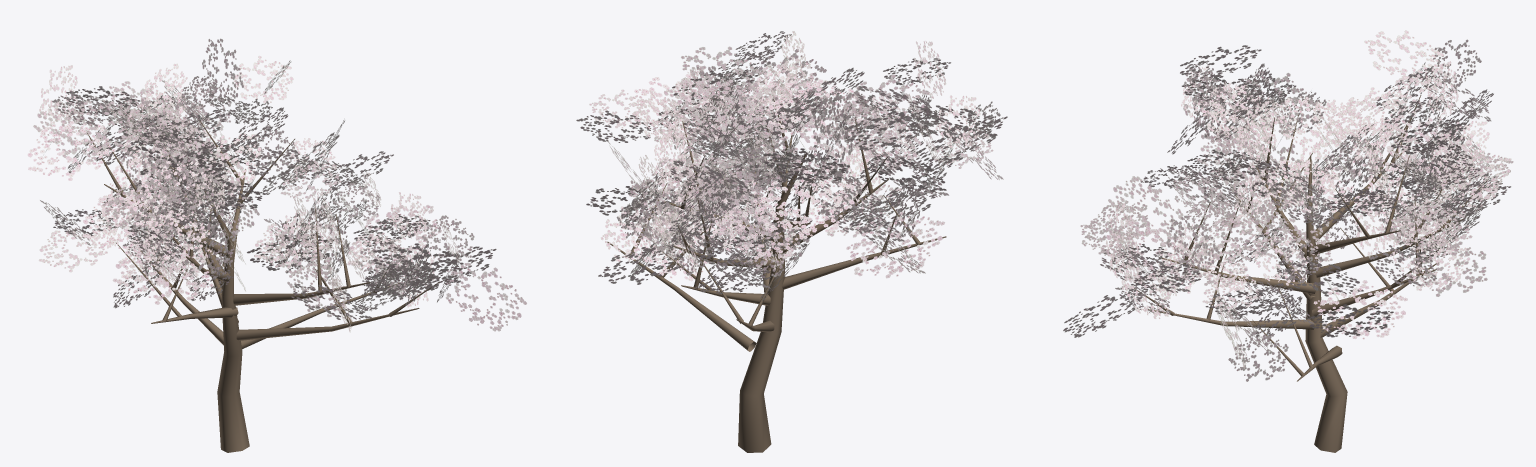
The model's file is sakura-19-balanced.glb.
The picture shows the model from 3 angles, left to right: view 1: azimuth 30°, elevation 25°; view 2: azimuth 150°, elevation 25°; view 3: azimuth 270°, elevation 25°; orthographic projection. The views are drawn at different scales.
Visible parts, largest first — view 1: LeafCards, Wood; view 2: LeafCards, Wood; view 3: LeafCards, Wood.
Part boxes in pixels (box(x1,y1,x2,y2)): LeafCards: box(27, 38, 526, 332); Wood: box(87, 120, 439, 452); LeafCards: box(576, 31, 1007, 301); Wood: box(607, 99, 946, 452); LeafCards: box(1063, 30, 1513, 381); Wood: box(1134, 95, 1487, 452).
Bounding box in the file's own units: 8.92 × 8.65 × 9.83.
Materials: 2 (1 with a texture image).
